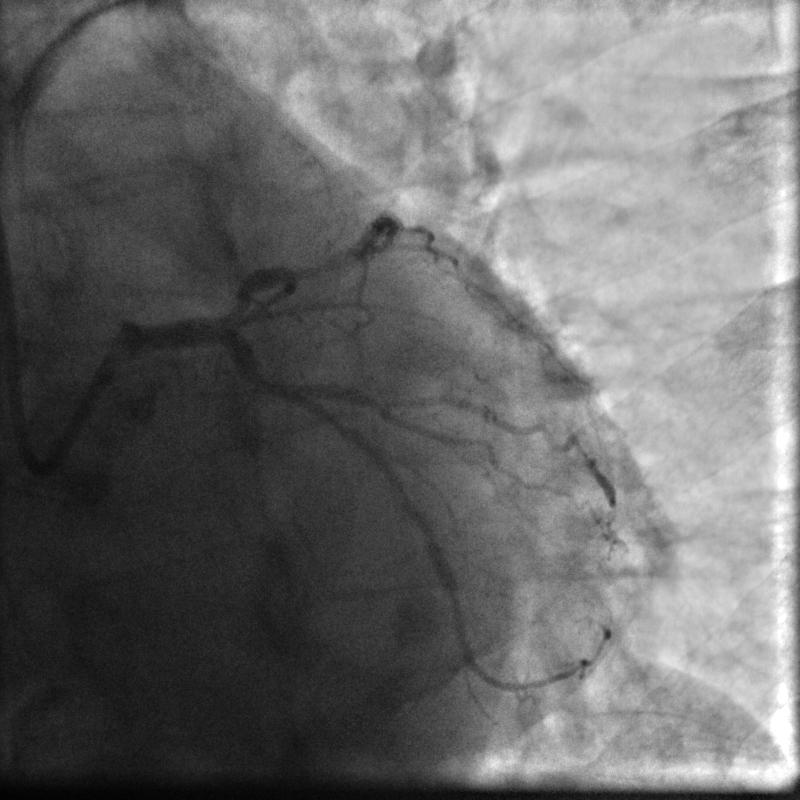Stenosis: (217, 277, 258, 326)
